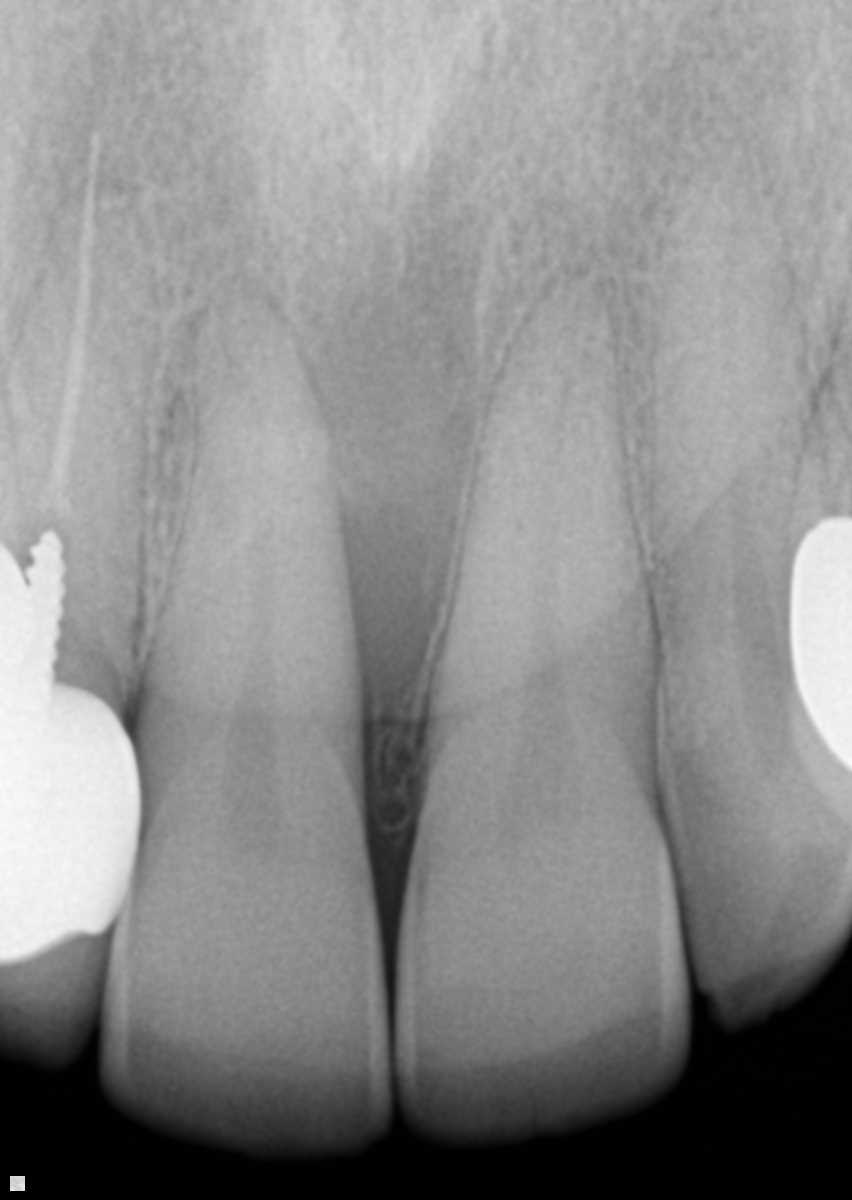Apical Lesion: (317, 247, 489, 706)
Main Canal: (726, 195, 789, 679), (230, 406, 283, 794), (525, 371, 576, 756)
Main Root: (644, 132, 852, 706), (131, 283, 373, 776), (431, 268, 666, 761), (0, 183, 155, 664)
Root Canal Filling: (42, 140, 98, 536)
